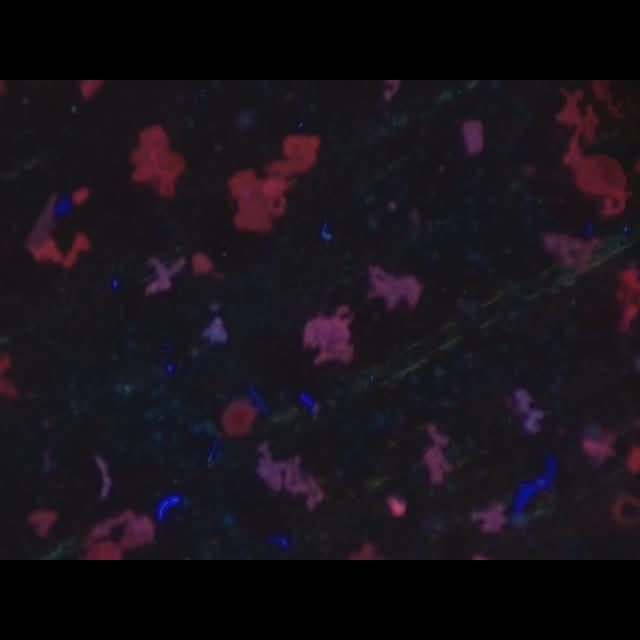Fragment: (228, 135, 319, 232), (129, 124, 185, 197)
